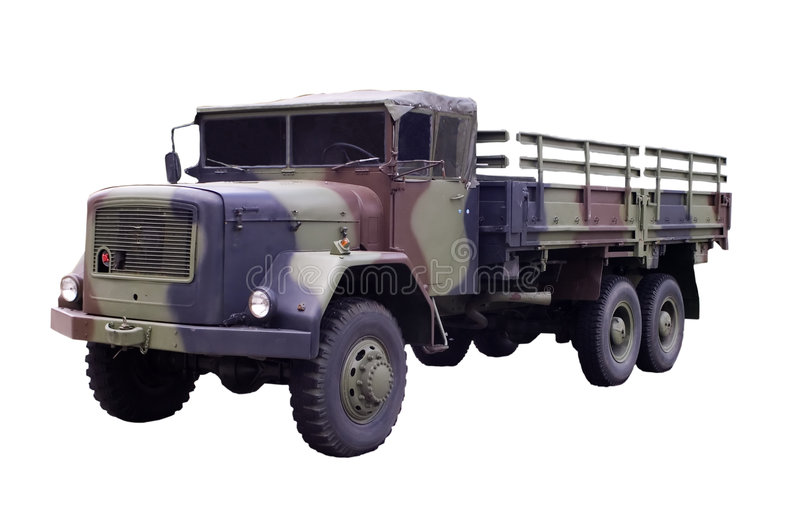camion: (60, 97, 759, 441)
